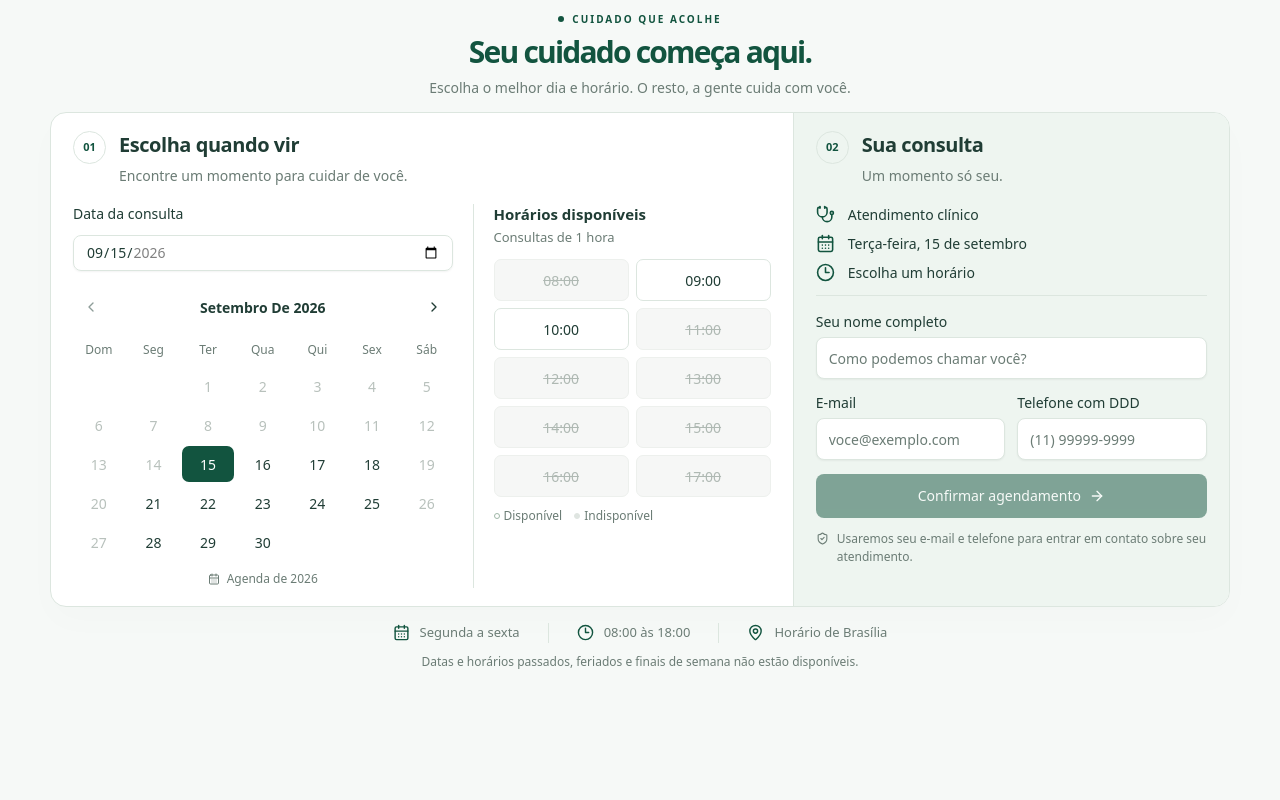
Test: booking form › disables past calendar dates and prevents a manually entered past booking
Expected: the radio button labelled "09:00" is shown, [636,259,771,301]
Expected: the button named "14 de setembro de 2026" is disabled, [128,446,179,482]
Type "2026-09-14" into the date field labelled "Data da consulta" at {"x": 263, "y": 253}, box [73,235,452,271]
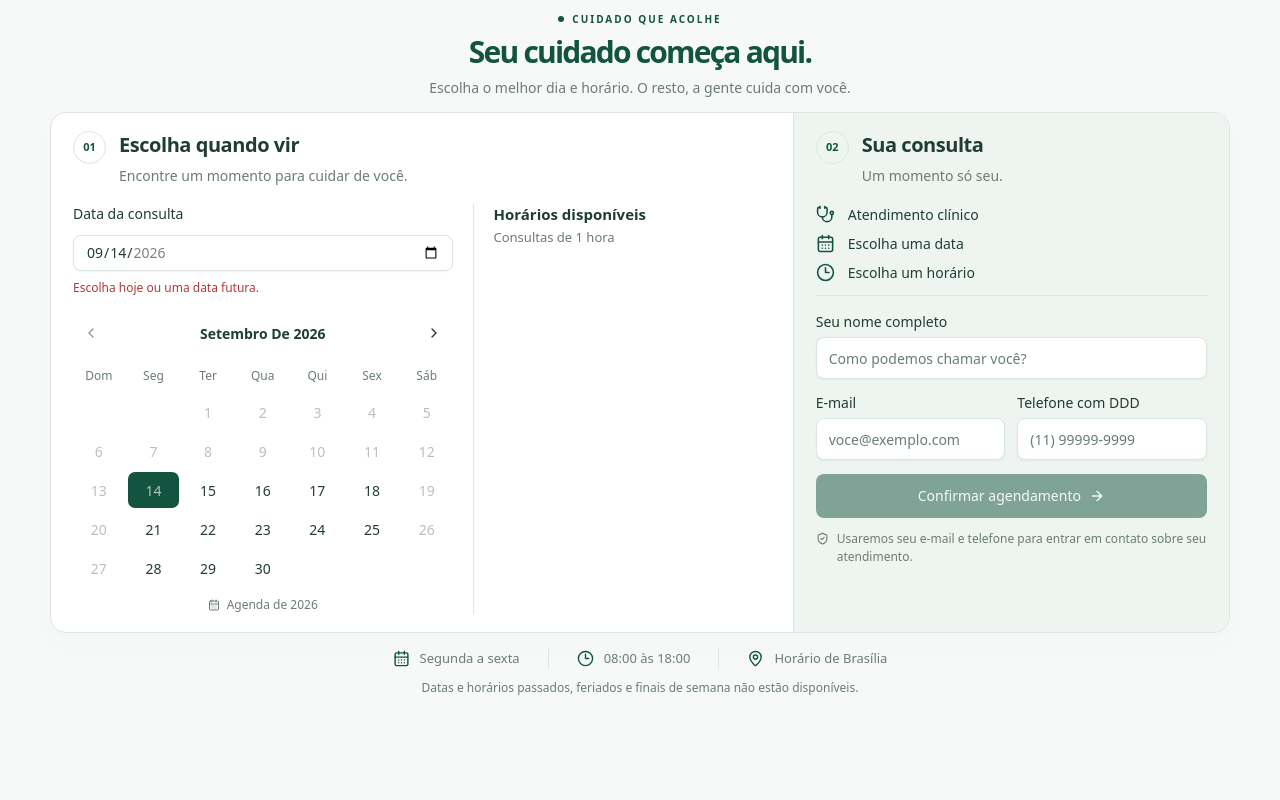
Expected: the button "Confirmar agendamento" is disabled, [816,474,1207,518]
Expected: the text "Escolha hoje ou uma data futura." is shown, [73,279,259,296]
Expected: no radio buttons are shown
